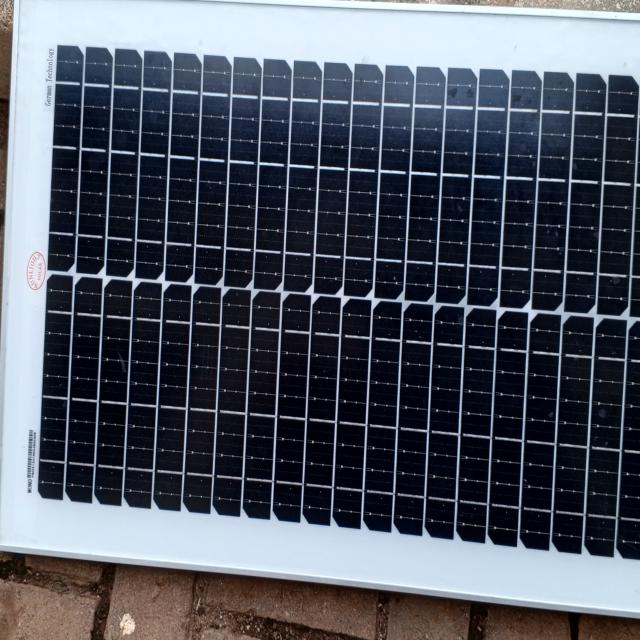Clean: (22, 1, 640, 530)
